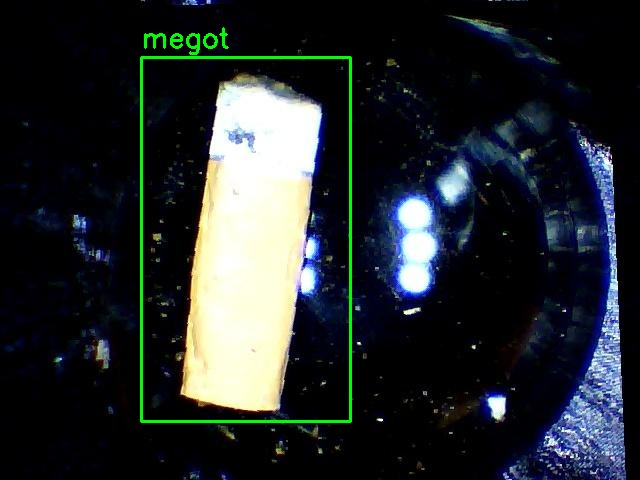megot: (141, 57, 350, 421)
